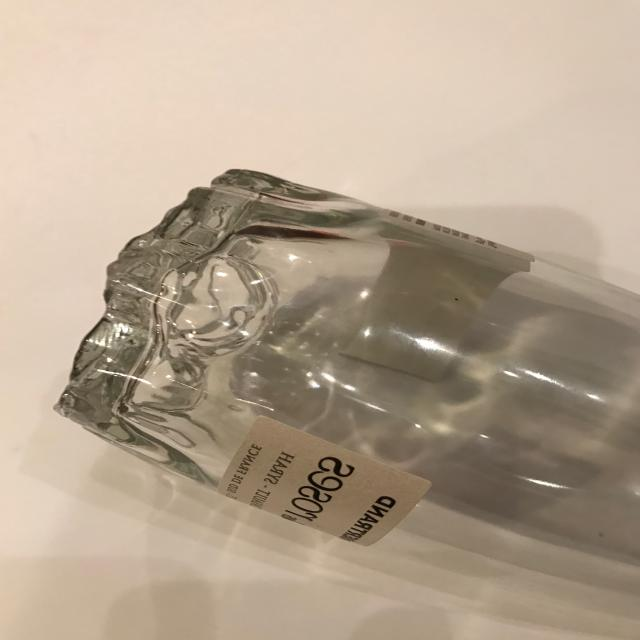glass: (52, 167, 640, 568)
